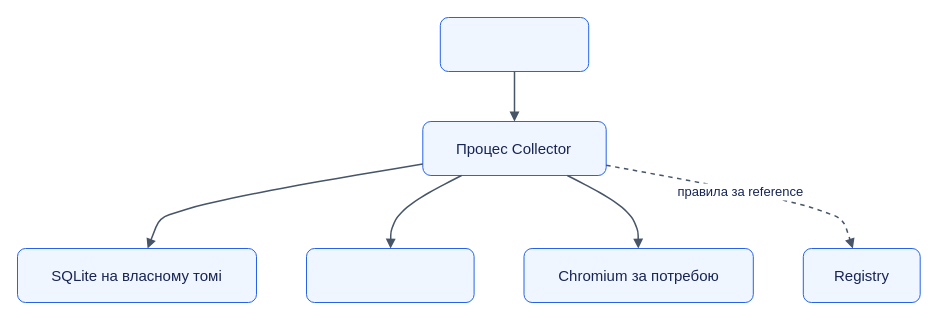
The diagram is 938 pixels wide and 320 high, and some of its shapes have lost their labels. Here are the shapes that lost their labels. From the top down, the centre of each, then its label:
At (x=514, y=44): "HTTP клієнт".
At (x=390, y=275): "HTTP джерело".
